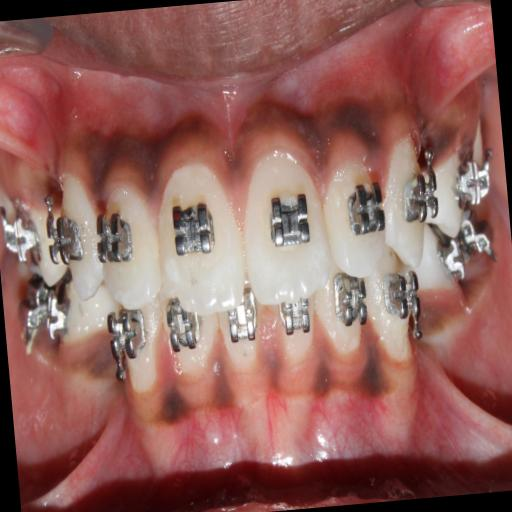correct_brace: (268, 185, 318, 263), (168, 195, 222, 256), (42, 208, 86, 270), (92, 206, 136, 266), (343, 177, 385, 234), (402, 168, 442, 226)
incorrect_brace: (92, 167, 164, 313), (320, 151, 390, 283)
